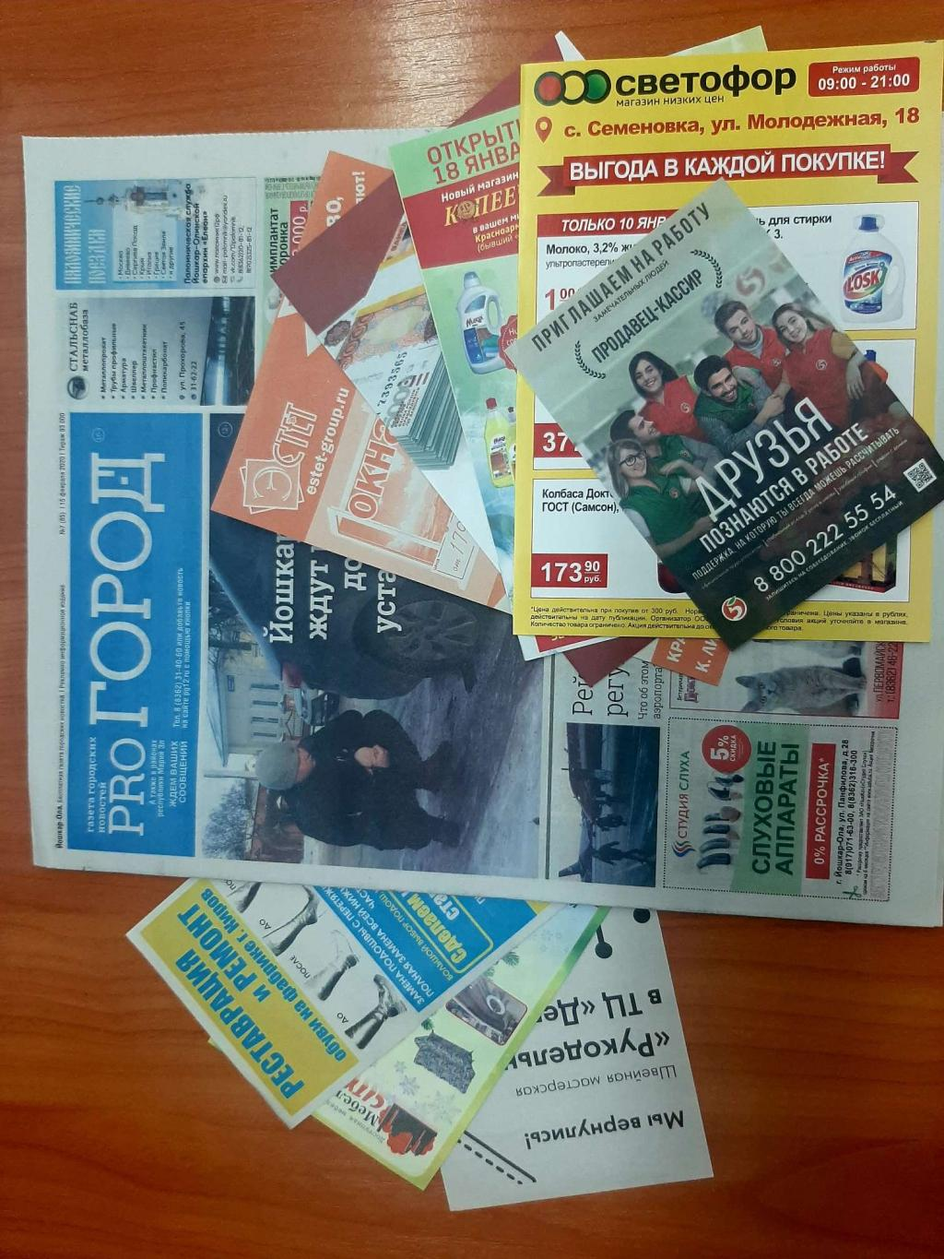paper: (23, 27, 944, 1209)
